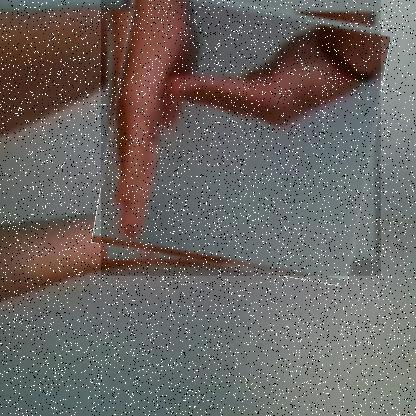Z: (101, 0, 382, 277)
